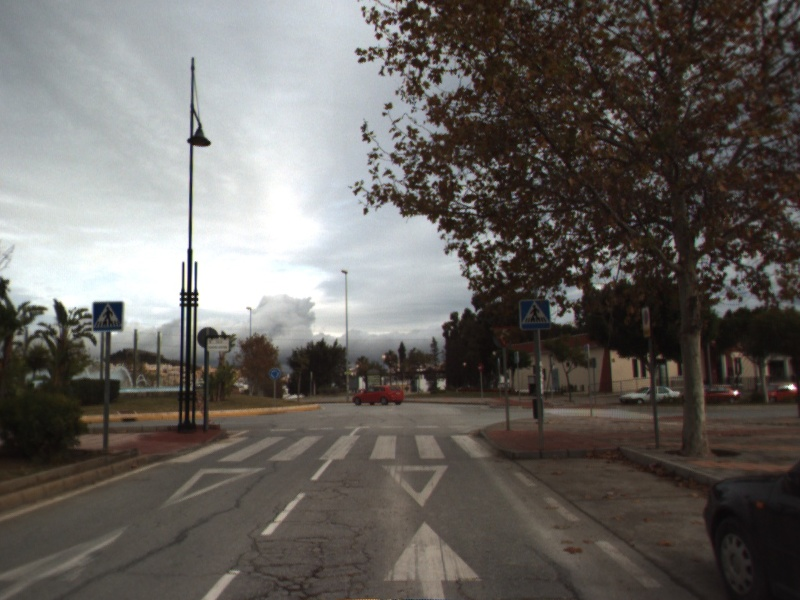STRAIGHT: (1, 518, 134, 600), (379, 516, 486, 600)
